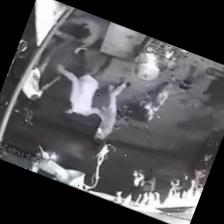person: (56, 47, 100, 114), (21, 36, 62, 105), (94, 77, 129, 141)
